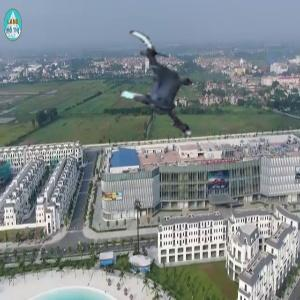drone: (102, 29, 210, 137)
